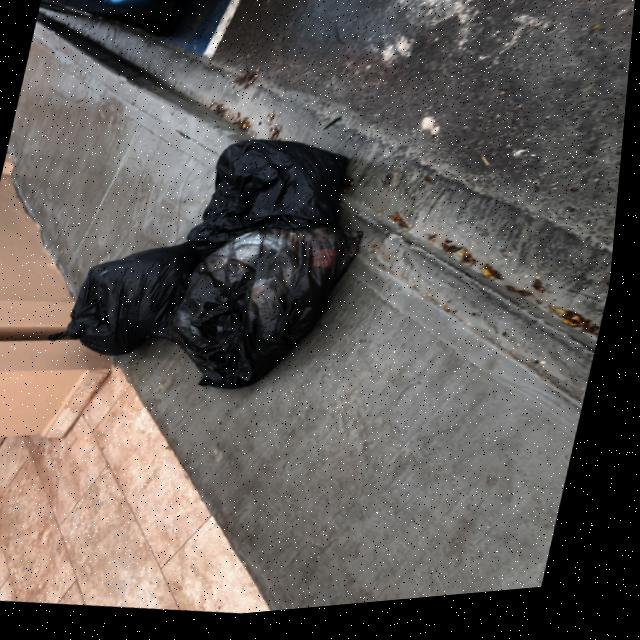Mixed Waste -Black Bag-: (163, 208, 376, 413), (187, 129, 358, 277), (69, 228, 216, 369)
